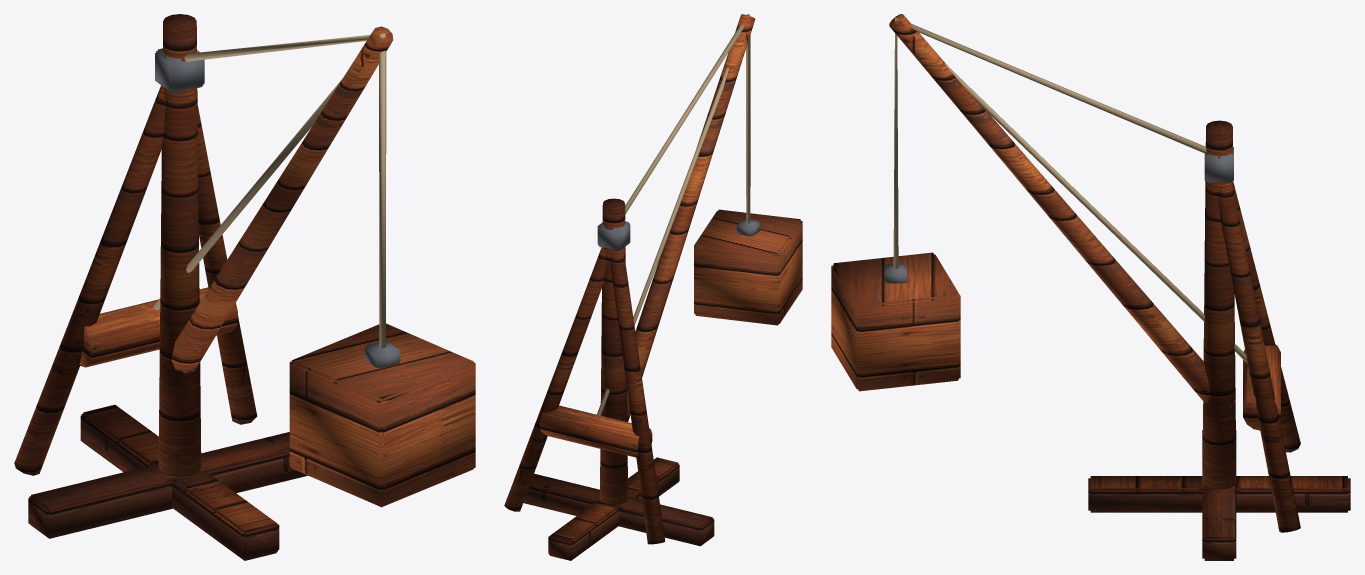
Rendered from harbor_crane.glb.
3 views of the same model, side by side, from view 1: azimuth 30°, elevation 25°; view 2: azimuth 150°, elevation 25°; view 3: azimuth 270°, elevation 25° (orthographic). The views are drawn at different scales.
Visible parts, largest first — view 1: crane_charred, crane_cedar, crane_rope, crane_iron; view 2: crane_charred, crane_cedar, crane_rope, crane_iron; view 3: crane_charred, crane_cedar, crane_rope, crane_iron.
Part boxes in pixels (x1,y1,x2,y2): crane_charred: [14, 14, 307, 560]; crane_cedar: [79, 26, 475, 507]; crane_rope: [153, 33, 386, 348]; crane_iron: [155, 48, 400, 368]; crane_charred: [504, 198, 714, 560]; crane_cedar: [540, 14, 802, 457]; crane_rope: [596, 14, 750, 416]; crane_iron: [597, 218, 759, 251]; crane_charred: [1088, 120, 1350, 560]; crane_cedar: [831, 14, 1280, 430]; crane_rope: [893, 17, 1247, 363]; crane_iron: [885, 147, 1233, 283].
Size of the model in its own units: 2.15 by 4.44 by 4.26.
Materials: 4 (2 with a texture image).
